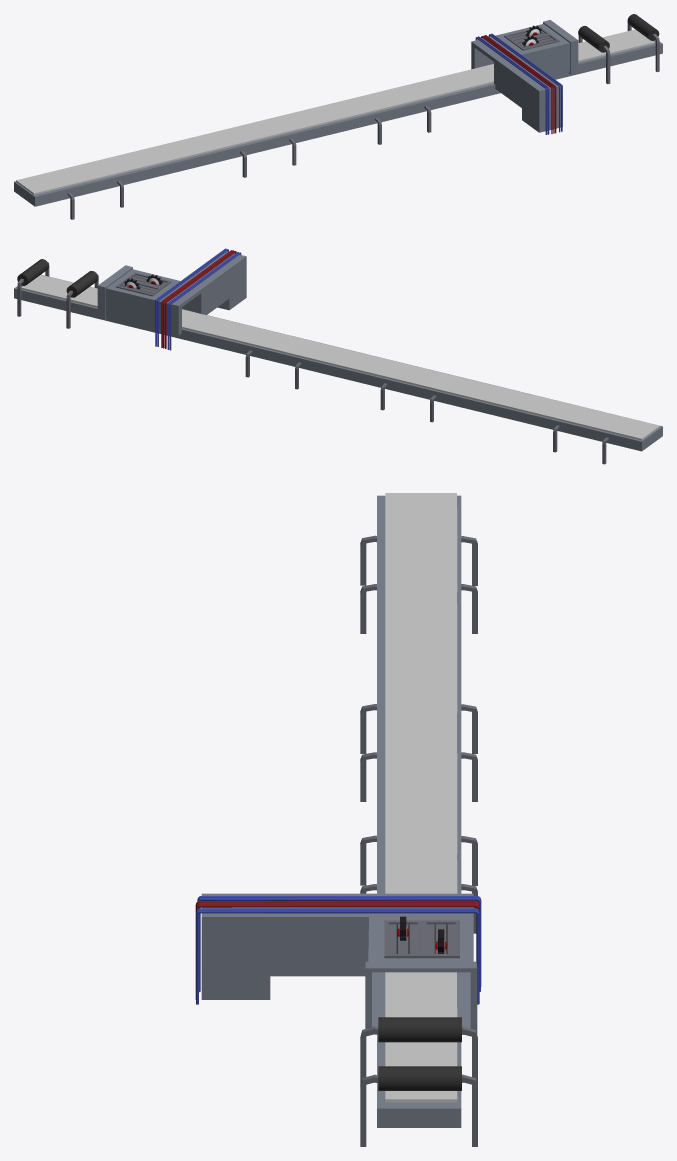
The model's file is conv.fbx.
The picture shows the model from 3 angles, top to bottom: view 1: azimuth 30°, elevation 25°; view 2: azimuth 150°, elevation 25°; view 3: azimuth 270°, elevation 25°; orthographic projection. The views are drawn at different scales.
Visible parts, largest first — view 1: squarepipe, conv, pCube271, Cube.002; view 2: squarepipe, conv, pCube271, Cube.002; view 3: squarepipe, conv, pCube271, Cube.002.
Boxes of the visible parts, x1,y1,x2,y2 form: squarepipe: (14, 20, 662, 219); conv: (16, 29, 654, 194); pCube271: (578, 14, 659, 84); Cube.002: (504, 27, 559, 50); squarepipe: (14, 248, 662, 464); conv: (21, 275, 659, 440); pCube271: (17, 259, 98, 328); Cube.002: (116, 272, 171, 296); squarepipe: (195, 495, 481, 1127); conv: (385, 493, 457, 1102); pCube271: (360, 1017, 477, 1146); Cube.002: (384, 920, 459, 958).
Size of the model in its own units: 7.34 by 0.6861 by 1.44.
